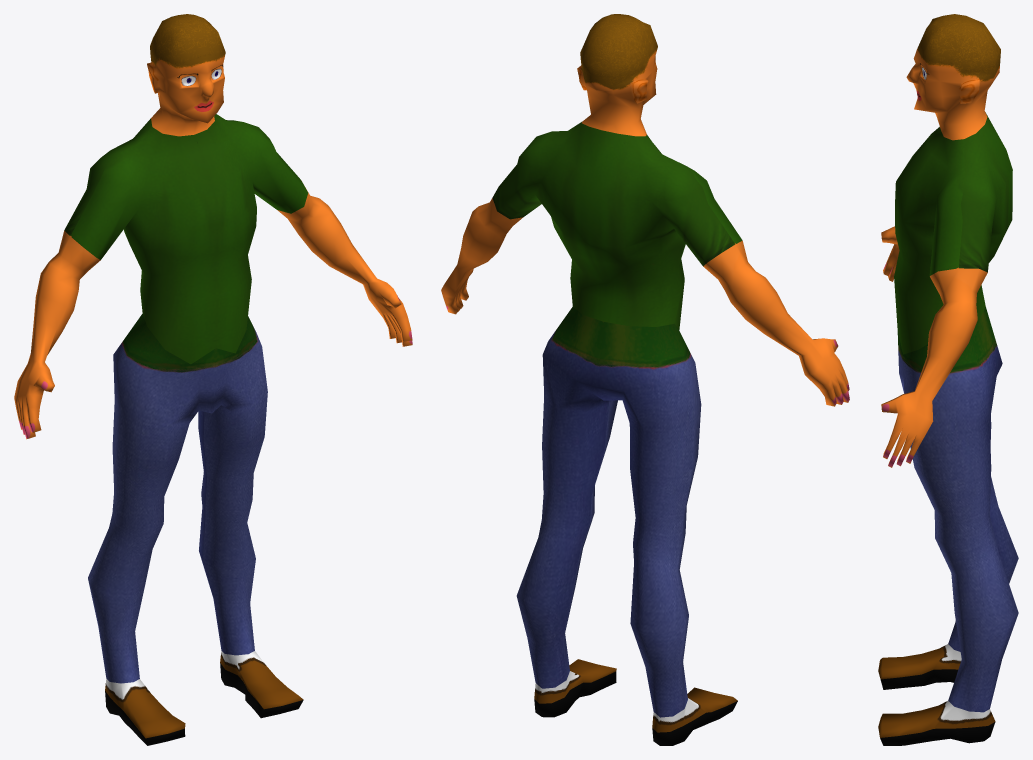
Rendered from Customer3FINISHED.FBX.
3 views of the same model, side by side, from view 1: azimuth 30°, elevation 25°; view 2: azimuth 150°, elevation 25°; view 3: azimuth 270°, elevation 25° (orthographic). The views are drawn at different scales.
Parts seen in each view (by area): view 1: Torso; view 2: Torso; view 3: Torso.
Part boxes in pixels (x1,y1,x2,y2): Torso: (14, 14, 412, 745); Torso: (441, 14, 849, 745); Torso: (878, 14, 1018, 745).
Bounding box in the file's own units: 170 × 288 × 52.94.
1 material, 1 textured.
